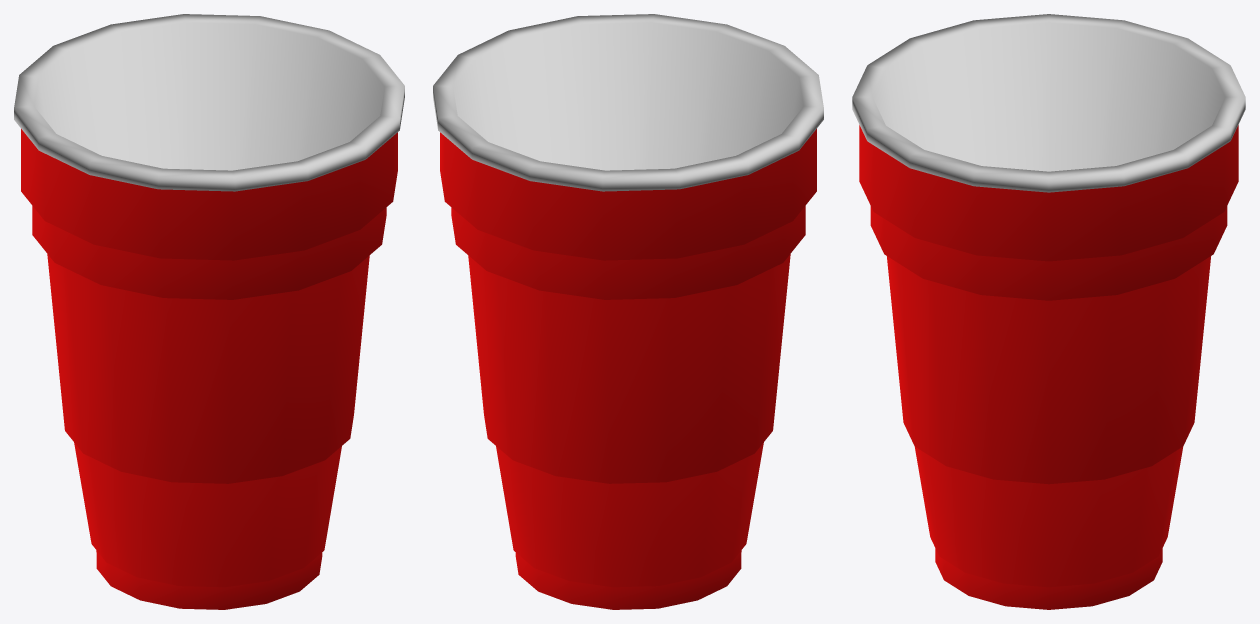
The model's file is pongcub_low.fbx.
The picture shows the model from 3 angles, left to right: view 1: azimuth 30°, elevation 25°; view 2: azimuth 150°, elevation 25°; view 3: azimuth 270°, elevation 25°; orthographic projection.
Visible parts, largest first — view 1: Cup; view 2: Cup; view 3: Cup.
Boxes of the visible parts, box(x1,y1,x2,y2) form: Cup: box(14, 14, 404, 609); Cup: box(433, 14, 823, 609); Cup: box(852, 14, 1245, 609).
Bounding box in the file's own units: 589 × 767 × 589.
